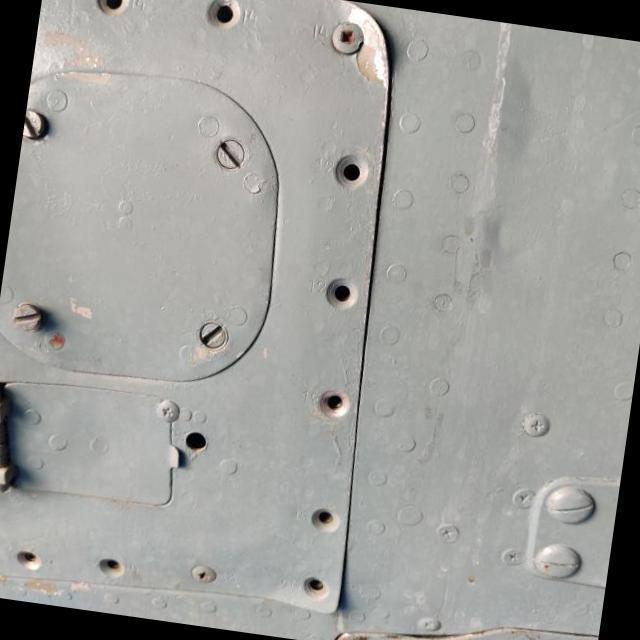Fastener Damage: (302, 121, 402, 222), (286, 358, 392, 452), (297, 245, 394, 342), (275, 546, 358, 630), (288, 476, 370, 558), (74, 528, 156, 610), (0, 510, 74, 598), (179, 0, 267, 58), (69, 0, 157, 41)
